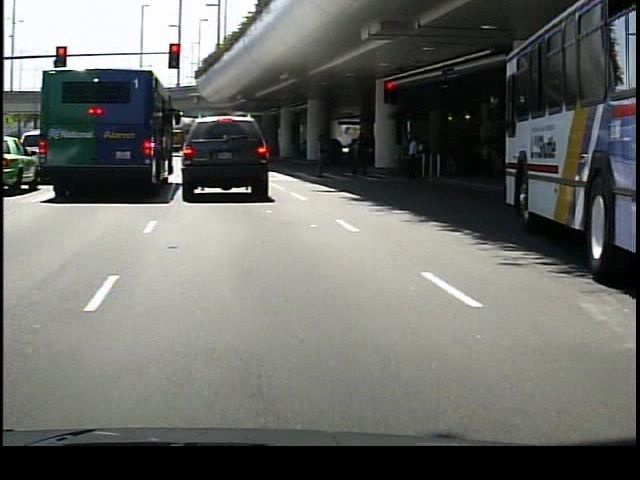person: (351, 129, 374, 184), (311, 129, 336, 179), (403, 133, 423, 182)
